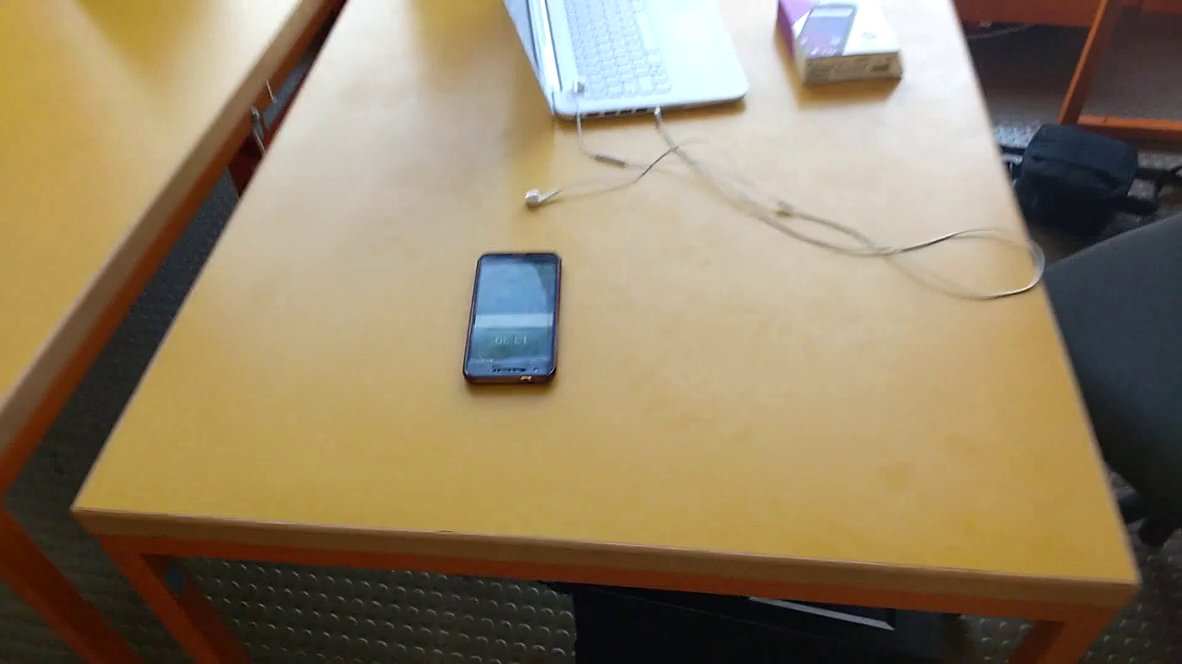phone: (452, 238, 584, 405)
